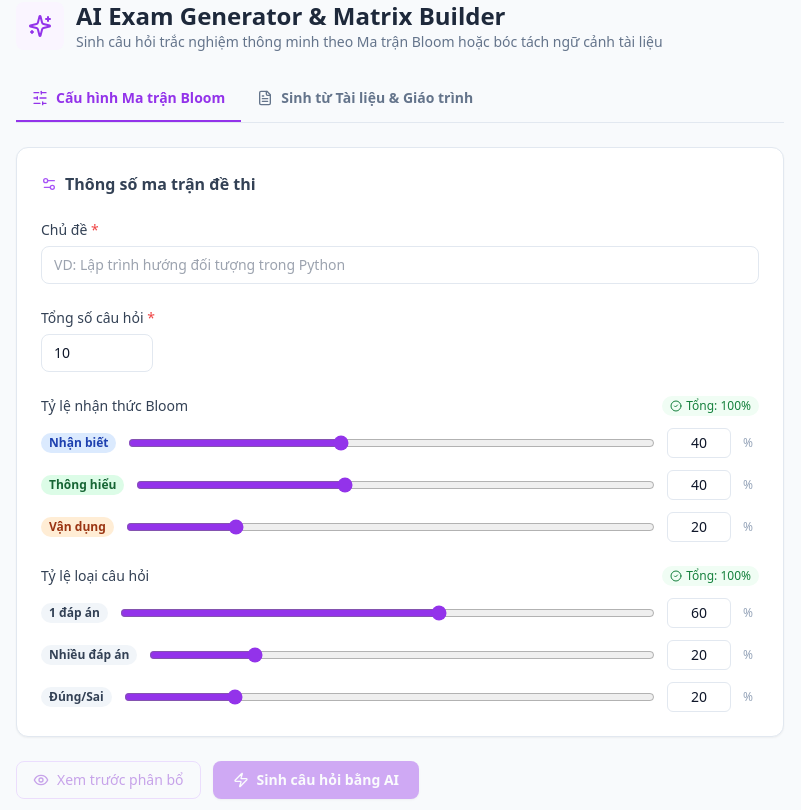
Test case: AiGenPage — Config Step › renders preview matrix table after preview button click
The width and height of the screenshot is (801, 810).
Type "Test Topic" into the field with placeholder "VD: Lập trình hướng đối tượng trong Python" at point(400, 265), box [41, 246, 759, 284]
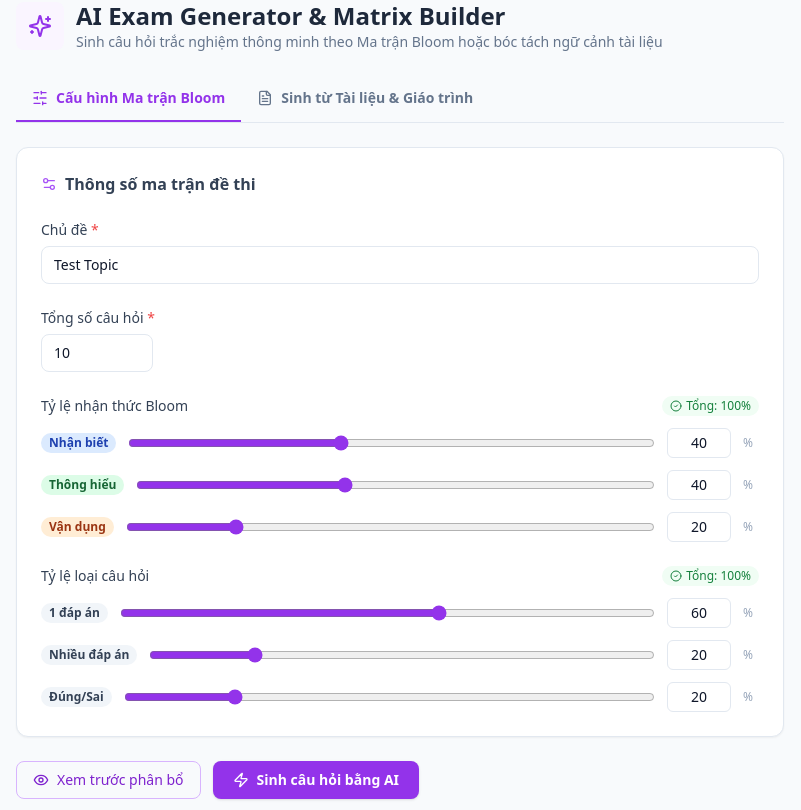
Click the button "Xem trước phân bổ" at point(108, 780), box [16, 761, 201, 799]
(page scrolled)
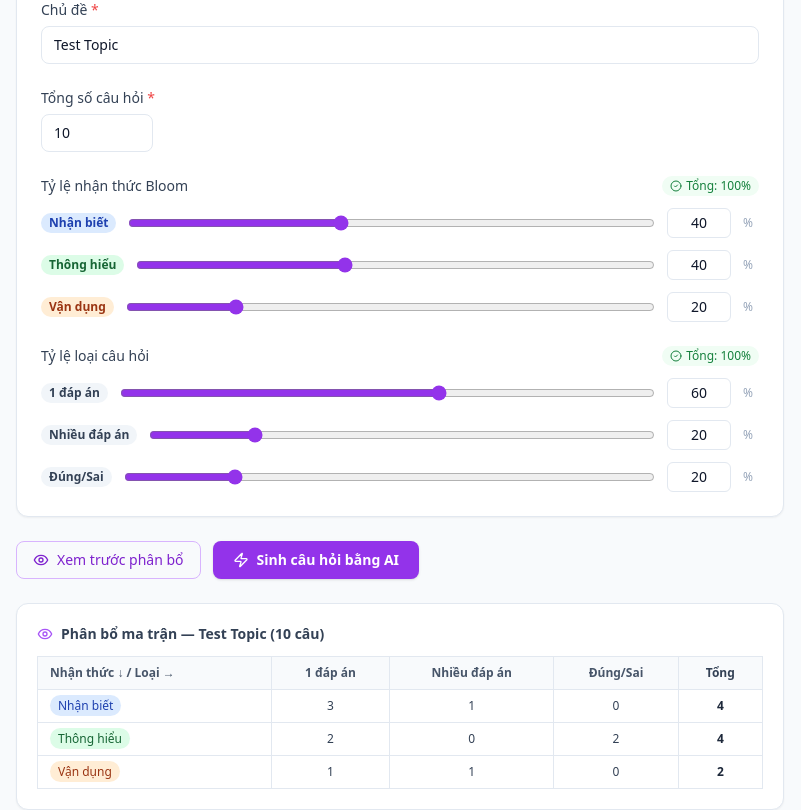
Result: the text "Phân bổ ma trận — Test Topic (10 câu)" is shown at [37, 624, 324, 643]
Result: the column heading "Nhận thức ↓ / Loại →" is shown at [38, 656, 271, 690]
